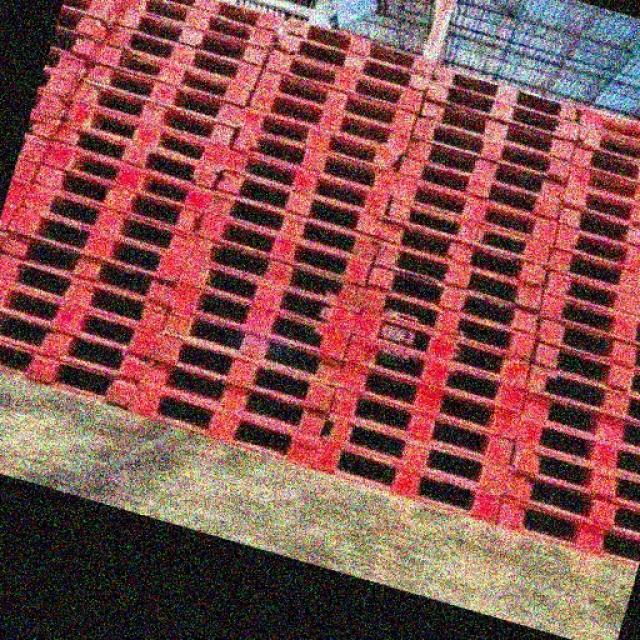non-igps: (306, 423, 513, 533), (134, 344, 335, 455), (121, 369, 326, 474), (347, 293, 539, 399), (157, 292, 352, 396), (322, 378, 520, 480), (326, 348, 527, 448), (318, 403, 518, 502), (170, 245, 370, 344), (147, 321, 343, 422), (337, 323, 535, 421), (163, 273, 358, 371), (182, 223, 374, 321), (0, 217, 187, 317), (0, 244, 179, 345), (188, 200, 378, 295), (2, 199, 195, 292), (371, 182, 559, 276), (366, 222, 549, 318), (370, 205, 556, 298), (354, 276, 542, 368), (18, 176, 204, 266), (363, 256, 548, 346), (385, 164, 564, 257), (200, 182, 388, 270), (37, 132, 221, 221), (28, 153, 209, 243), (0, 273, 170, 368), (234, 90, 410, 181), (208, 160, 392, 247), (46, 110, 231, 196), (238, 78, 419, 164), (217, 140, 395, 227), (400, 126, 573, 215), (228, 116, 401, 203), (409, 102, 580, 190), (248, 59, 422, 144), (391, 148, 566, 232), (58, 96, 238, 177), (258, 40, 432, 123), (419, 68, 586, 152), (87, 32, 259, 113), (0, 306, 160, 392), (67, 73, 243, 151), (485, 486, 640, 574), (78, 56, 252, 134), (270, 22, 438, 101), (278, 6, 443, 86), (98, 18, 266, 94), (110, 0, 274, 75), (413, 94, 581, 167), (0, 335, 151, 416), (490, 459, 640, 537), (426, 56, 587, 126), (499, 428, 640, 507), (502, 406, 640, 478), (116, 0, 282, 56), (515, 379, 640, 453), (519, 356, 640, 426), (526, 313, 640, 373), (526, 335, 640, 395), (138, 0, 289, 42), (535, 262, 640, 322), (532, 286, 640, 344), (540, 242, 640, 300), (545, 218, 640, 274), (546, 199, 640, 250), (552, 178, 640, 228), (557, 157, 640, 207), (564, 138, 640, 188), (570, 92, 640, 144), (46, 0, 118, 50), (570, 119, 640, 168), (41, 20, 107, 70), (38, 39, 100, 89), (32, 61, 86, 106), (25, 85, 78, 130), (55, 0, 129, 31), (21, 106, 68, 152)
